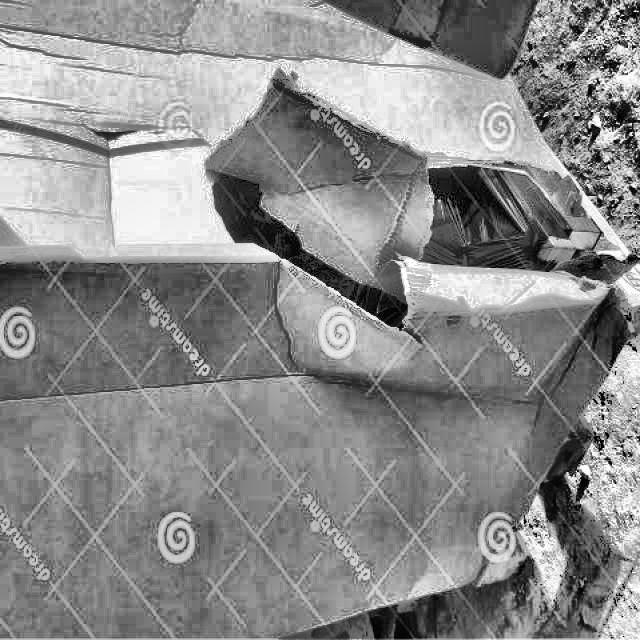box: (0, 0, 639, 639)
hole: (185, 120, 605, 349)
